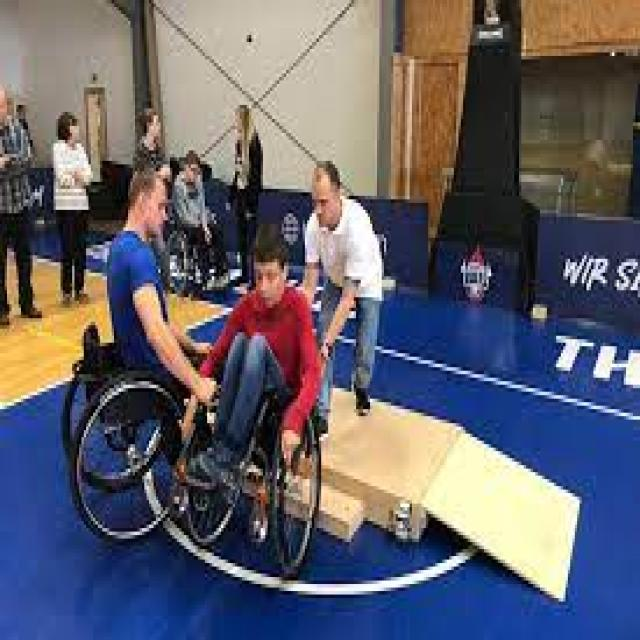wheelchairs: (166, 356, 329, 583), (57, 323, 180, 562)
